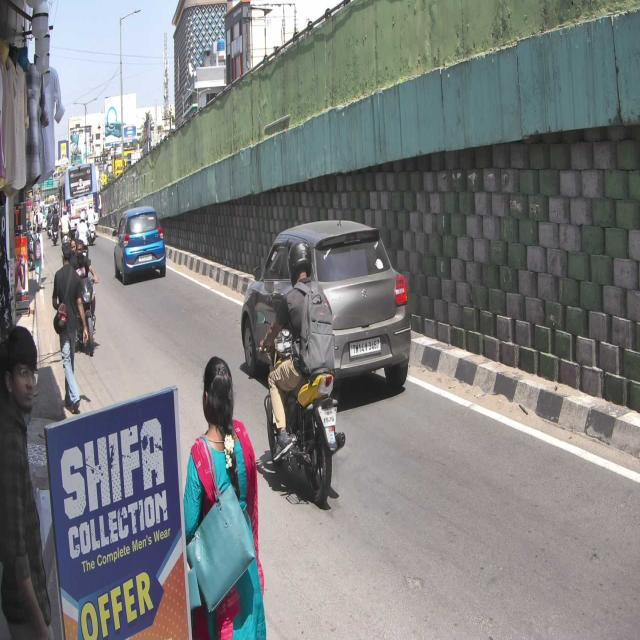single_rider: (258, 236, 346, 507)
